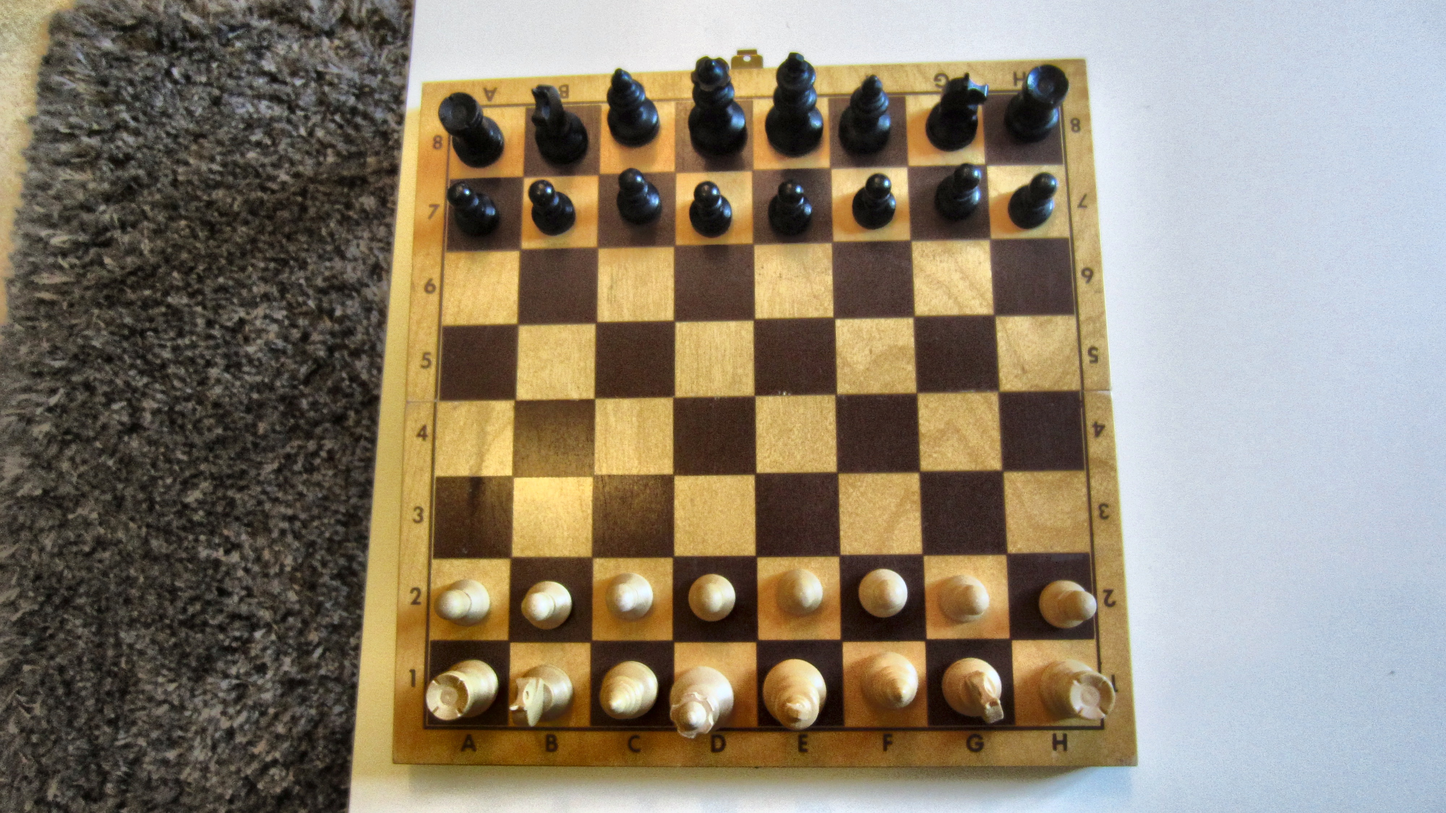black-bishop: (606, 67, 662, 147), (838, 74, 891, 150)
black-king: (764, 51, 825, 156)
black-knight: (527, 83, 589, 166), (924, 73, 989, 152)
black-pawn: (445, 182, 501, 238), (527, 179, 578, 237), (1008, 172, 1058, 228), (686, 180, 734, 237), (935, 161, 982, 219), (615, 168, 662, 225), (851, 173, 898, 229), (767, 179, 814, 234)
black-queen: (688, 55, 748, 153)
black-rook: (437, 90, 505, 168), (1006, 64, 1070, 143)
white-bishop: (597, 660, 660, 719), (861, 652, 920, 710)
white-king: (761, 657, 829, 730)
white-knight: (939, 655, 1005, 724), (509, 664, 574, 727)
white-pawn: (1037, 578, 1096, 629), (519, 580, 573, 630), (936, 573, 989, 623), (434, 578, 489, 626), (857, 568, 907, 618), (687, 573, 736, 622), (604, 573, 653, 621), (776, 568, 822, 616)
white-queen: (667, 665, 735, 740)
white-rook: (1038, 659, 1116, 723), (423, 659, 499, 722)
